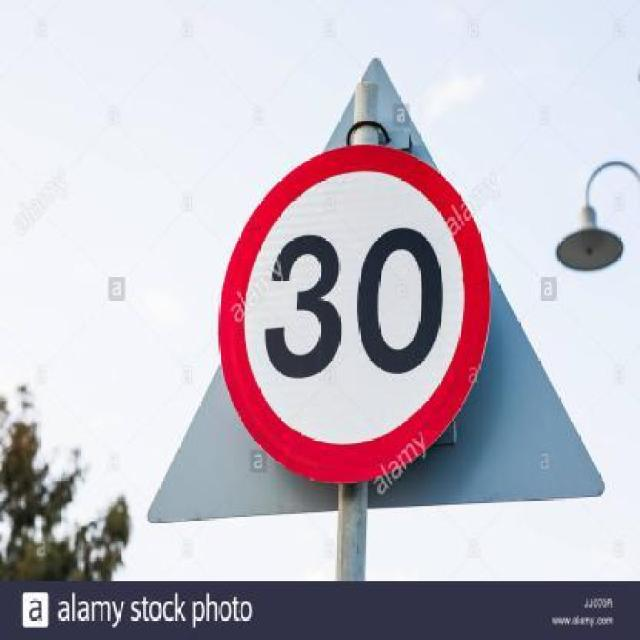speed_limit_30: (220, 145, 492, 483)
